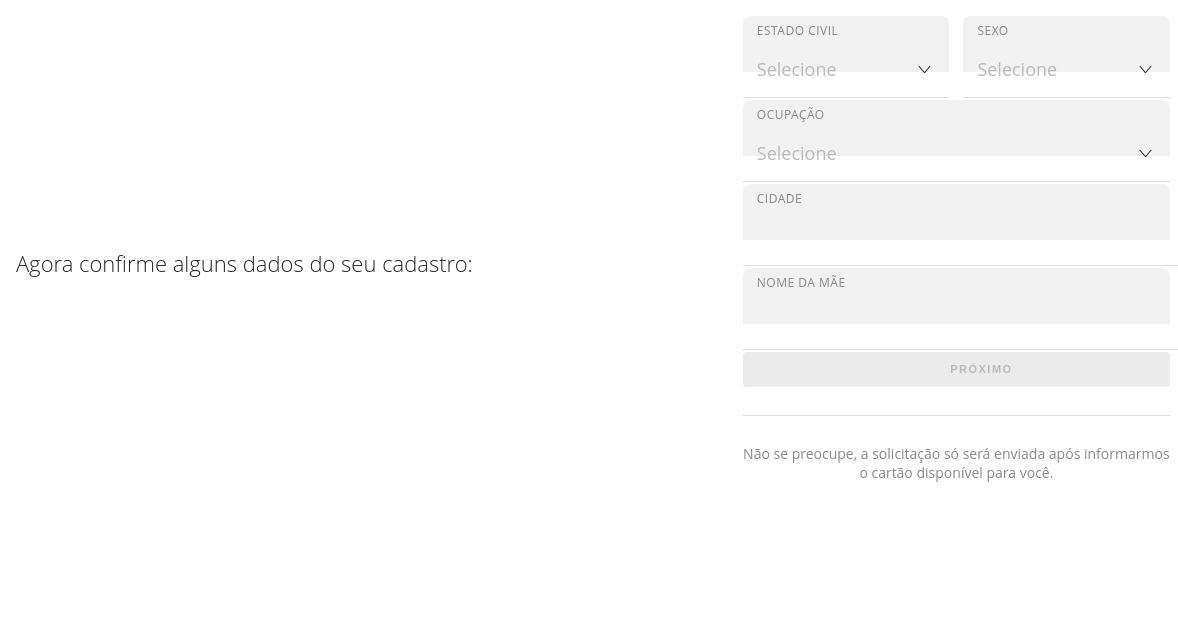
it: Credit Card Step 3 › should open select when clicked
Click the element with test id "select-estado civil": (846,44) [743,16,949,72]
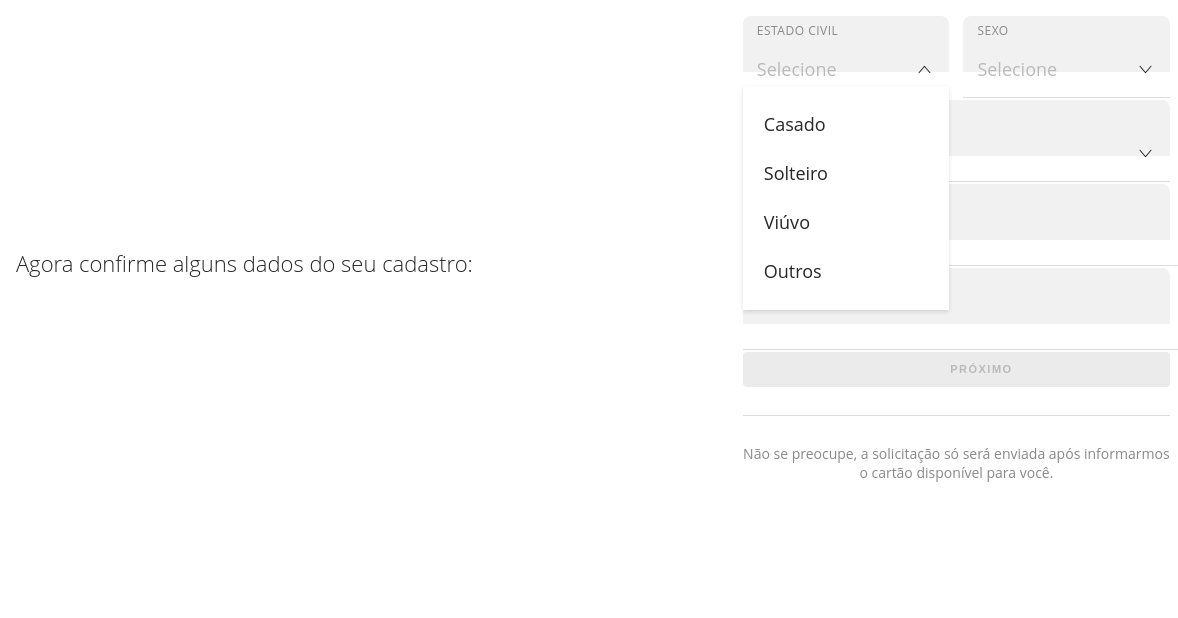
Result: the heading "Casado" is shown at [764,112,826,137]
Click the element with test id "select-sexo": (1067,44) [963,16,1170,72]
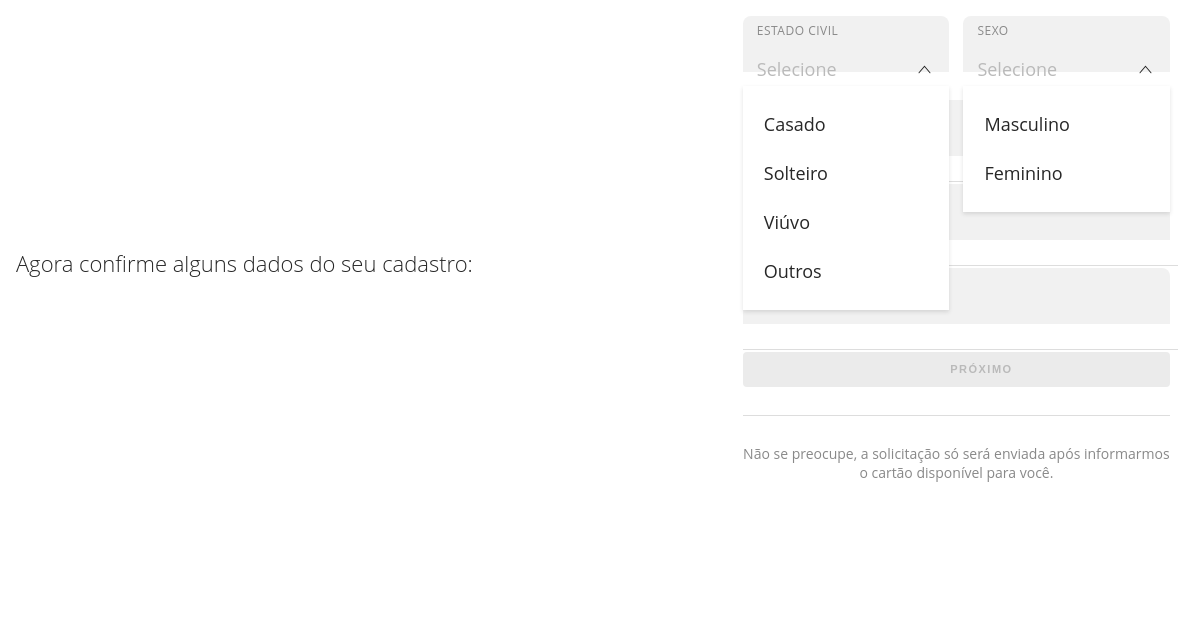
Result: the heading "Feminino" is shown at [984,161,1063,186]
Click the element with test id "select-ocupação": (956,128) [743,100,1170,156]
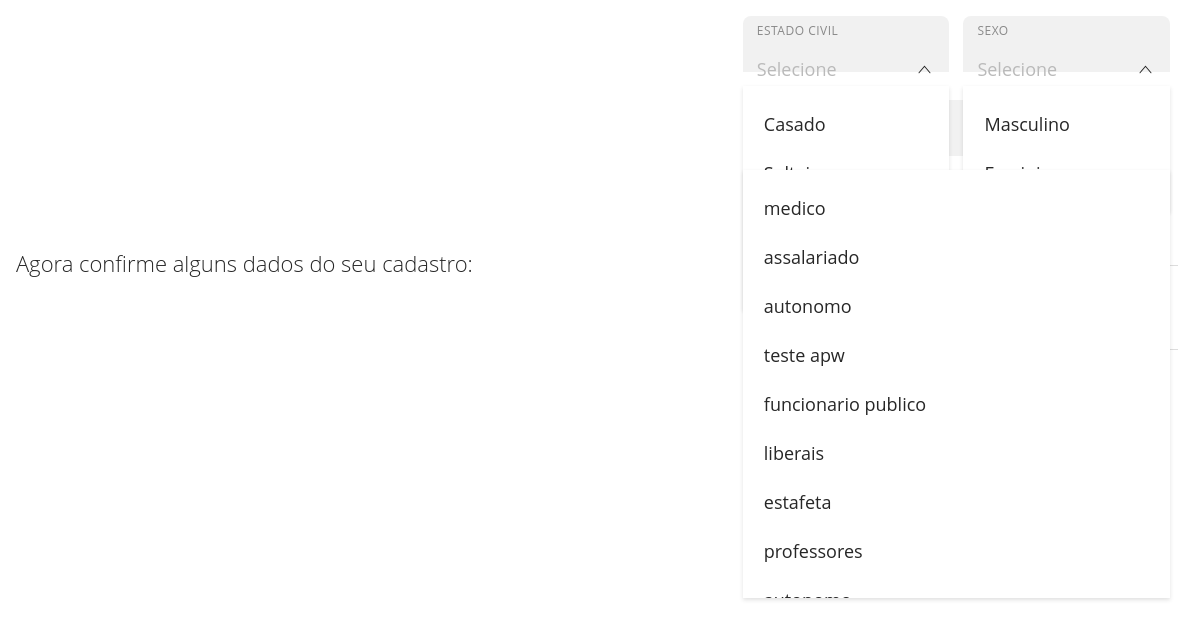
Result: the heading "medico" is shown at [764,196,826,221]
